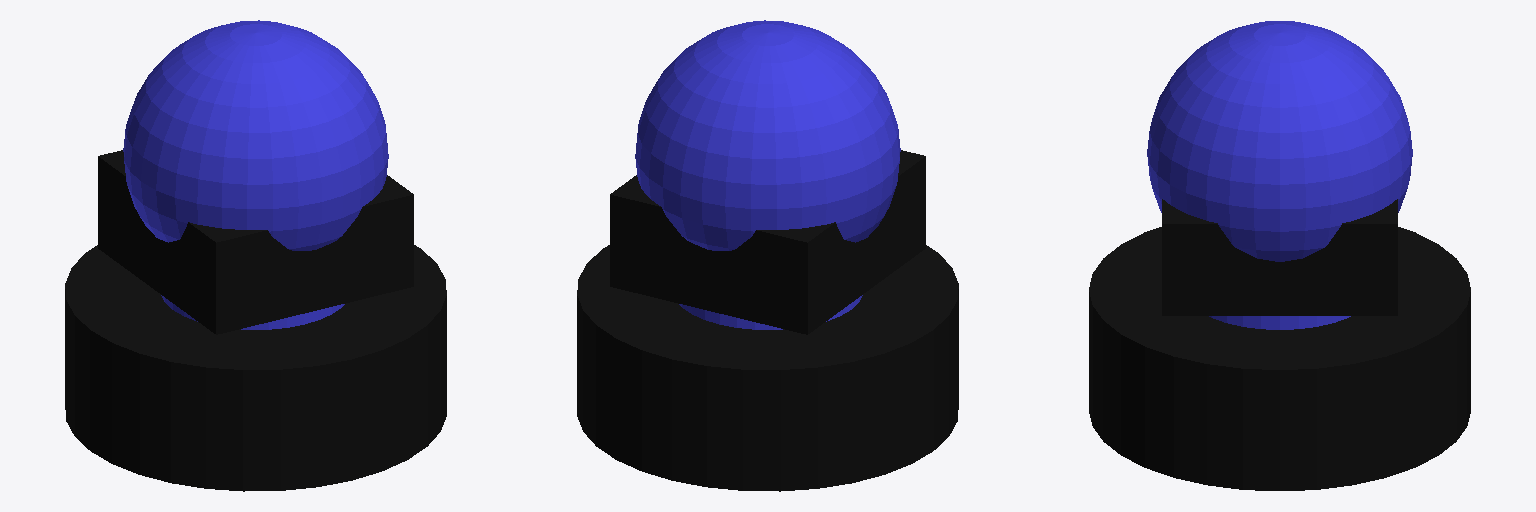
URDF robot description (evolved_robot):
<?xml version="1.0"?>
<robot name="evolved_robot">
  <material name="metal">
    <color rgba="0.7 0.7 0.7 1.0"/>
  </material>
  <material name="plastic">
    <color rgba="0.3 0.3 0.9 1.0"/>
  </material>
  <material name="rubber">
    <color rgba="0.1 0.1 0.1 1.0"/>
  </material>
  <material name="red">
    <color rgba="1.0 0.0 0.0 1.0"/>
  </material>
  <material name="wheel_material">
    <color rgba="0.2 0.2 0.2 1.0"/>
  </material>
  <link name="base_link">
    <visual>
      <geometry><cylinder radius="0.1272388989605983" length="0.08906482229332736"/></geometry>
      <material name="rubber"/>
    </visual>
    <collision>
      <geometry><cylinder radius="0.1272388989605983" length="0.08906482229332736"/></geometry>
    </collision>
    <inertial>
      <mass value="5.0"/>
      <inertia ixx="0.04708479566354836" ixy="0" ixz="0" 
               iyy="0.04708479566354836" iyz="0" 
               izz="0.08094868704352673"/>
    </inertial>
  </link>
  <link name="link1">
    <visual>
      <geometry><cylinder radius="0.06399652453522651" length="0.1427863277072362"/></geometry>
      <material name="plastic"/>
    </visual>
    <collision>
      <geometry><cylinder radius="0.06399652453522651" length="0.1427863277072362"/></geometry>
    </collision>
    <inertial>
      <mass value="0.5"/>
      <inertia ixx="0.0027228834031568163" ixy="0" ixz="0" 
               iyy="0.0027228834031568163" iyz="0" 
               izz="0.0020477775762939247"/>
    </inertial>
  </link>
  <joint name="joint1" type="prismatic">
    <parent link="base_link"/>
    <child link="link1"/>
    <origin xyz="0 0 0.04453241114666368" rpy="0 0 0"/>
    <axis xyz="-0.742464210832582 -0.5326631871505938 0.40622262946237053"/>
    <dynamics damping="0.648240366738078" friction="0.1"/>
    <limit lower="-0.9303338955994896" upper="0.9438424306910559" effort="100" velocity="100"/>
  </joint>
  <link name="link2">
    <visual>
      <geometry>
        <cylinder radius="0.0721658289576909" length="0.05085709238639688"/>
      </geometry>
      <material name="wheel_material"/>
    </visual>
    <collision>
      <geometry>
        <cylinder radius="0.0721658289576909" length="0.05085709238639688"/>
      </geometry>
    </collision>
    <inertial>
      <mass value="1.0"/>
      <inertia ixx="0.0015175137044542168" ixy="0" ixz="0" 
               iyy="0.0015175137044542168" iyz="0" 
               izz="0.0026039534345753492"/>
    </inertial>
  </link>
  <joint name="joint2" type="continuous">
    <parent link="base_link"/>
    <child link="link2"/>
    <origin xyz="0 0 0" rpy="1.5708 0 0"/>
    <axis xyz="0 1 0"/>
    <dynamics damping="0.6987285557382152" friction="0.1"/>
  </joint>
  <link name="link3">
    <visual>
      <geometry><box size="0.15197306139109826 0.15755732544313733 0.06773367558203931"/></geometry>
      <material name="rubber"/>
    </visual>
    <collision>
      <geometry><box size="0.15197306139109826 0.15755732544313733 0.06773367558203931"/></geometry>
    </collision>
    <inertial>
      <mass value="0.5"/>
      <inertia ixx="0.002451013467387303" ixy="0" ixz="0" 
               iyy="0.0023069718497029557" iyz="0" 
               izz="0.003993343515781434"/>
    </inertial>
  </link>
  <joint name="joint3" type="prismatic">
    <parent link="base_link"/>
    <child link="link3"/>
    <origin xyz="0 0 0.09453241114666369" rpy="0 0 0"/>
    <axis xyz="0.45716278544646854 0.601431115929411 0.6551967646400045"/>
    <dynamics damping="0.5887855533223098" friction="0.1"/>
    <limit lower="-1.6464221671866734" upper="1.9719597524889452" effort="100" velocity="100"/>
  </joint>
  <link name="link4">
    <visual>
      <geometry><sphere radius="0.08847717009439582"/></geometry>
      <material name="plastic"/>
    </visual>
    <collision>
      <geometry><sphere radius="0.08847717009439582"/></geometry>
    </collision>
    <inertial>
      <mass value="0.5"/>
      <inertia ixx="0.0031312838511650598" ixy="0" ixz="0" 
               iyy="0.0031312838511650598" iyz="0" 
               izz="0.0031312838511650598"/>
    </inertial>
  </link>
  <joint name="joint4" type="prismatic">
    <parent link="base_link"/>
    <child link="link4"/>
    <origin xyz="0 0 0.14453241114666368" rpy="0 0 0"/>
    <axis xyz="-0.09979474454398629 -0.8527791981310462 -0.5126486596065287"/>
    <dynamics damping="0.7617778135493298" friction="0.1"/>
    <limit lower="-0.6705610024174679" upper="1.0869618474153977" effort="100" velocity="100"/>
  </joint>
</robot>

--- Facts derived from the render (not from the file) ---
Views: 3 orthographic renders of the robot side by side, from view 1: azimuth 30°, elevation 25°; view 2: azimuth 150°, elevation 25°; view 3: azimuth 270°, elevation 25°.
Robot: evolved_robot — 5 links, 4 joints (1 continuous, 3 prismatic); root link base_link; default pose: all joints at 0.
Visible links, largest first — view 1: base_link, link4, link3, link1; view 2: base_link, link4, link3, link1; view 3: base_link, link4, link3, link1.
Boxes of the visible links, x1,y1,x2,y2 form: base_link: (65, 245, 446, 491); link4: (123, 20, 388, 250); link3: (98, 150, 413, 334); link1: (161, 295, 344, 329); base_link: (577, 245, 958, 491); link4: (635, 20, 900, 250); link3: (610, 150, 925, 334); link1: (679, 295, 862, 329); base_link: (1089, 227, 1470, 490); link4: (1147, 21, 1412, 261); link3: (1162, 199, 1397, 315); link1: (1209, 316, 1350, 329).
Bounding box of the posed robot: 0.2545 × 0.2545 × 0.3052 m (x, y, z).
Geometry: primitives only (box / cylinder / sphere), no mesh files.